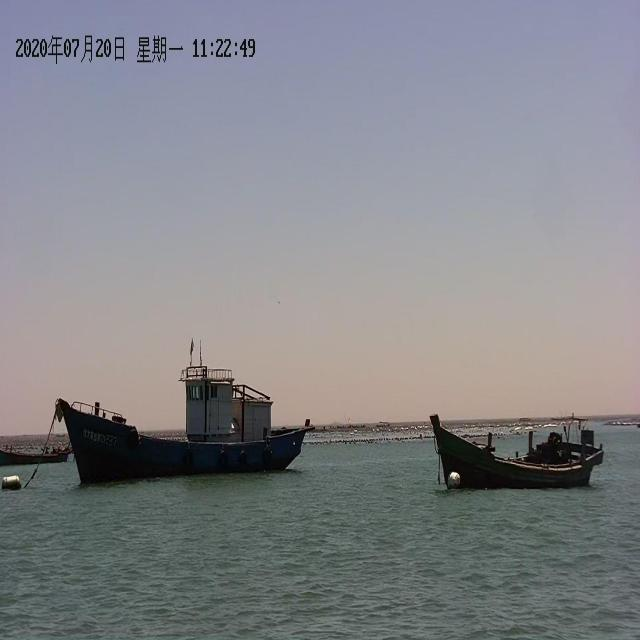ship2: (57, 338, 315, 486), (430, 415, 604, 494)
